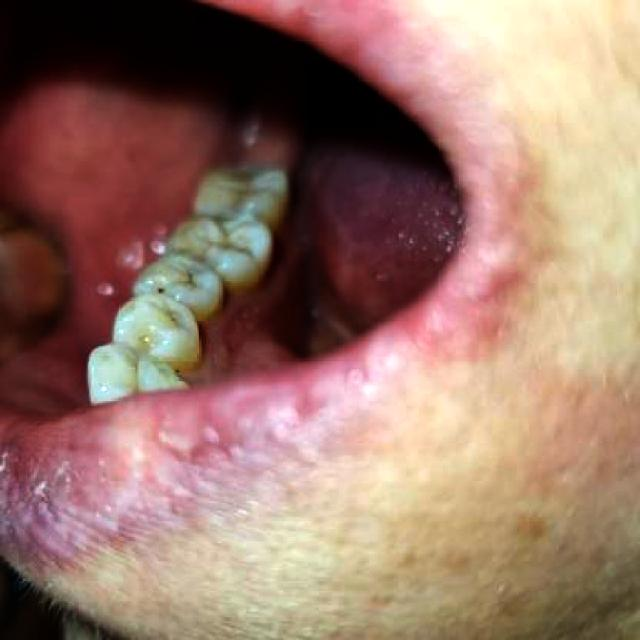Plaque: (192, 218, 255, 262), (152, 265, 206, 297), (152, 306, 188, 335)
